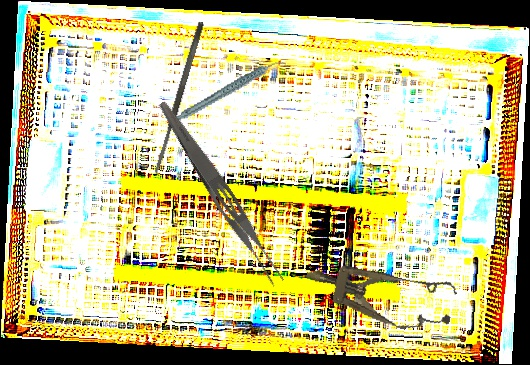Dressing Forceps: (149, 97, 290, 290)
Handpiece: (166, 58, 294, 124)
Spatula Surgical: (151, 20, 206, 176)
Speculum: (299, 246, 460, 340)
